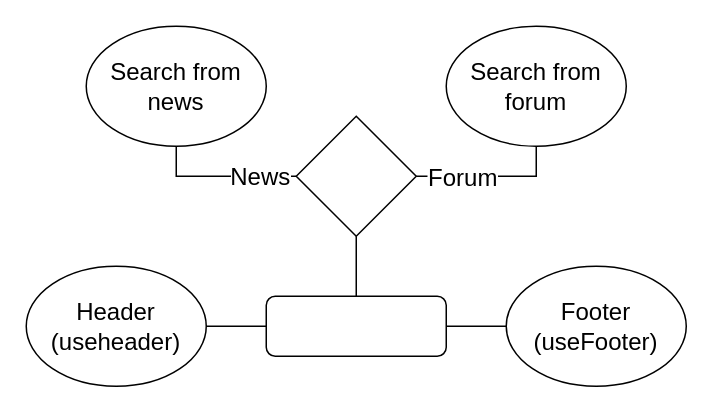
Image size: 713x413. Some labels were removed from this diagram. Here are the shapes that lost their labels. From the top down, the centre of each, then its label:
(355,175): Search
(355,325): User
